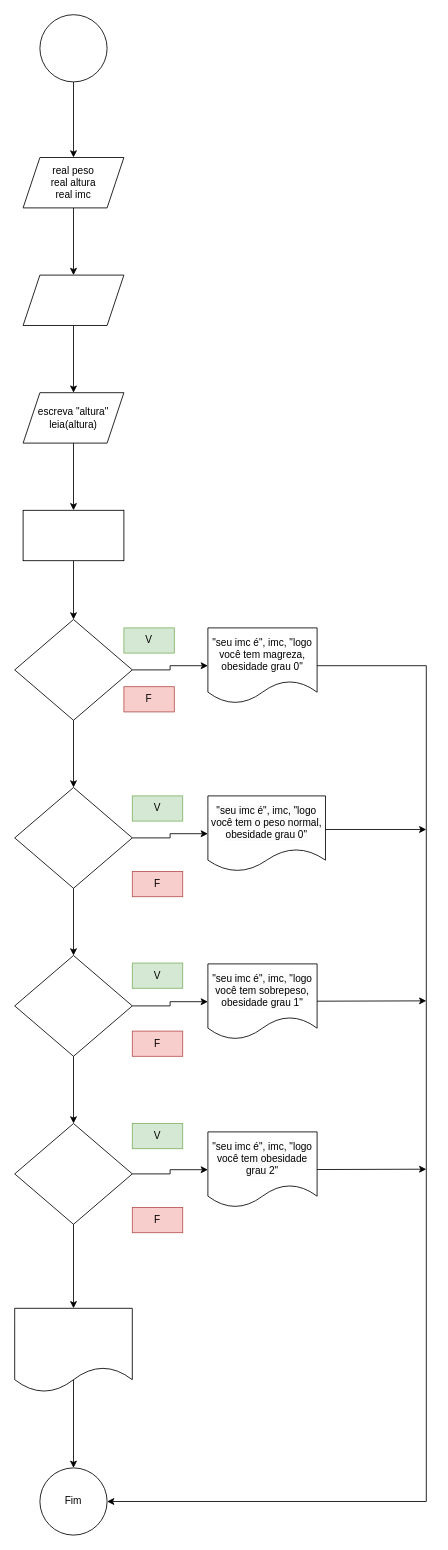
Image size: 448x1550. Some labels were removed from this diagram. Each missing label, with the centre of its shape:
"seu imc é", imc, "logo você tem obesidade grau 3": pixel 73 1349
escreva "peso:" leia(peso): pixel 73 300
imc = peso/(altura*altura): pixel 73 535
Inicio: pixel 73 48
se imc <= 18,5: pixel 73 669
se imc <= 24,9: pixel 73 837
se imc <= 29,9: pixel 73 1005
se imc <= 39,9: pixel 73 1173
